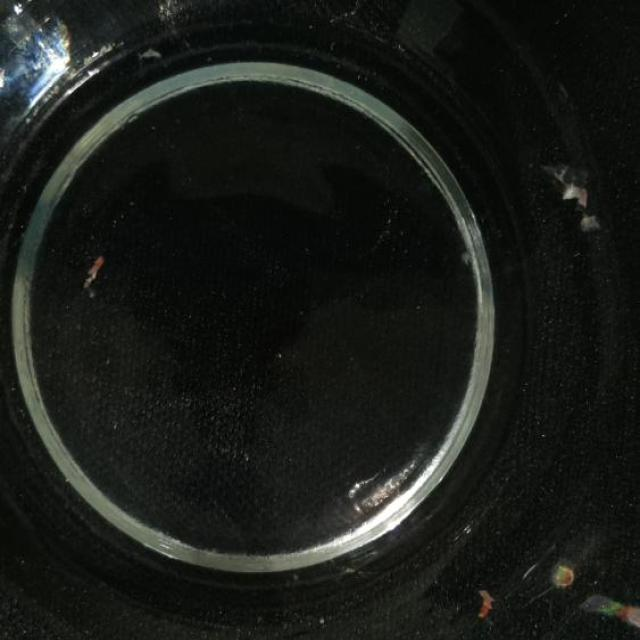fiber: (552, 159, 602, 206), (80, 245, 112, 308), (473, 580, 501, 627), (574, 208, 601, 238)
